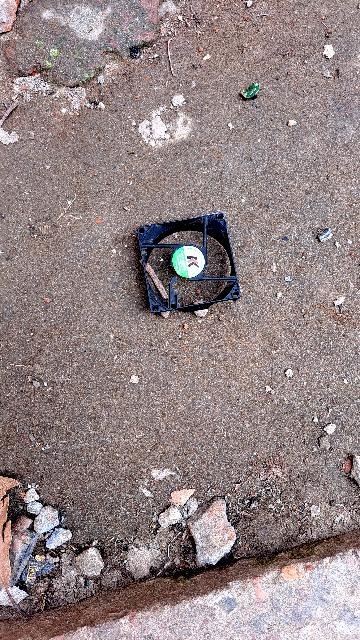hardplastic: (128, 206, 253, 333)
